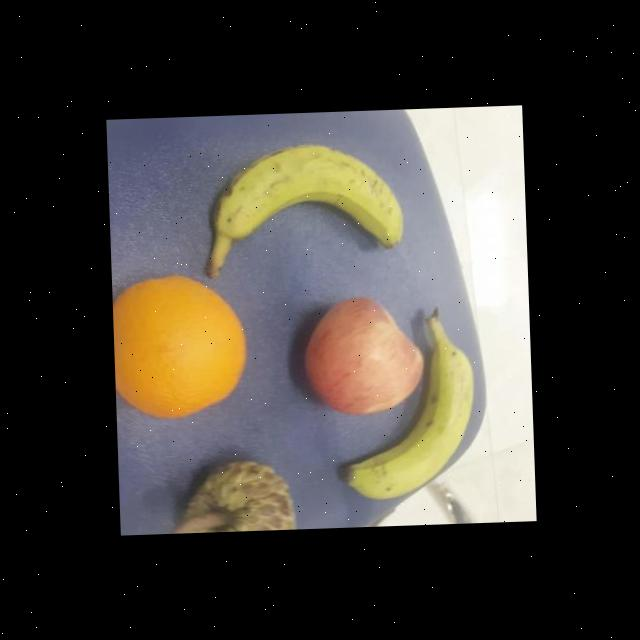Sakya fruit: (175, 457, 298, 533)
apple: (300, 289, 428, 420)
banana: (200, 137, 410, 252), (334, 348, 482, 501)
orange: (111, 273, 250, 419)
